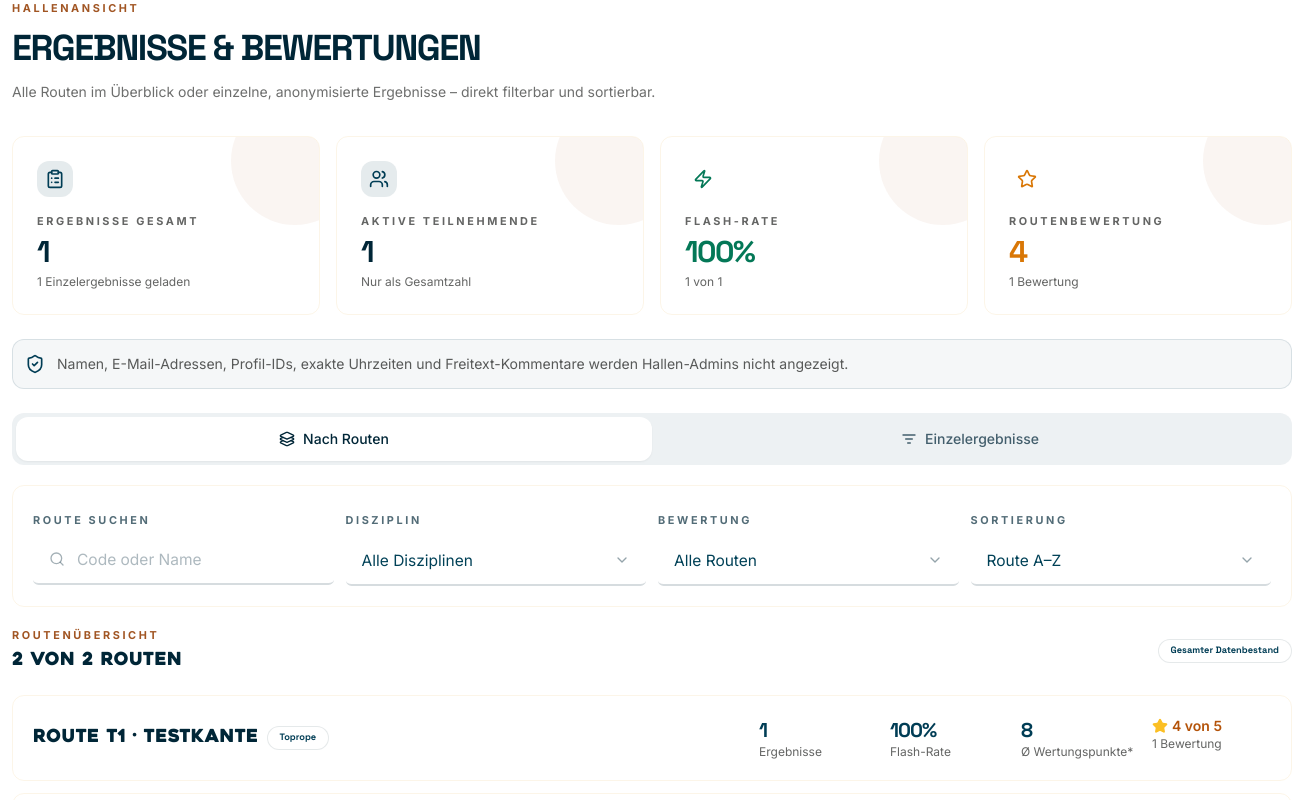
Test: GymResults › filters the complete route overview independently from loaded result pages
The width and height of the screenshot is (1292, 800).
Expected: the heading "2 von 2 Routen" is shown, [12,647,182,675]
Select "Vorstieg" in the dropdown labelled "Disziplin" at coordinates (496, 560), box [362,549,630,572]
(page scrolled)
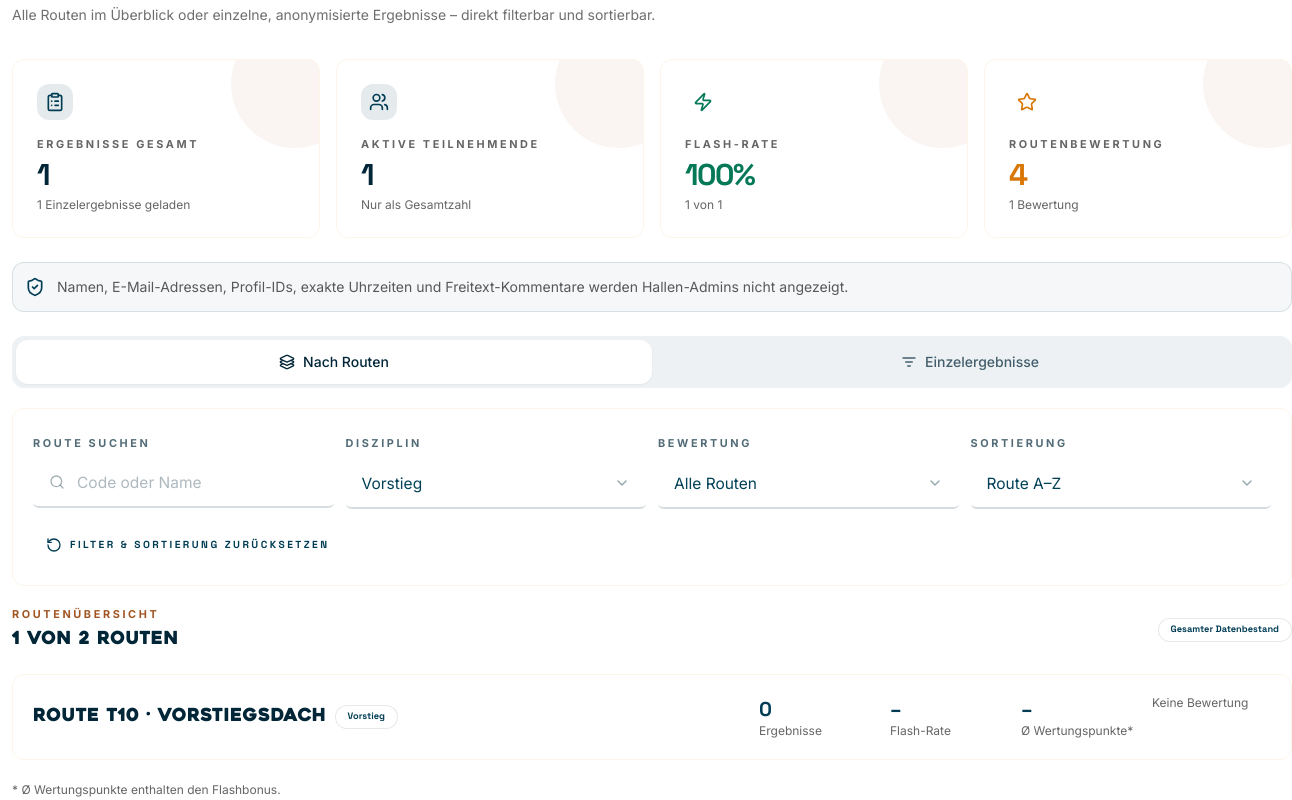
Expected: the heading "Route T10 · Vorstiegsdach" is shown, [33,703,327,731]
Result: the heading "1 von 2 Routen" is shown at [12,626,179,654]
Result: the heading "Route T1 · Testkante" is gone
